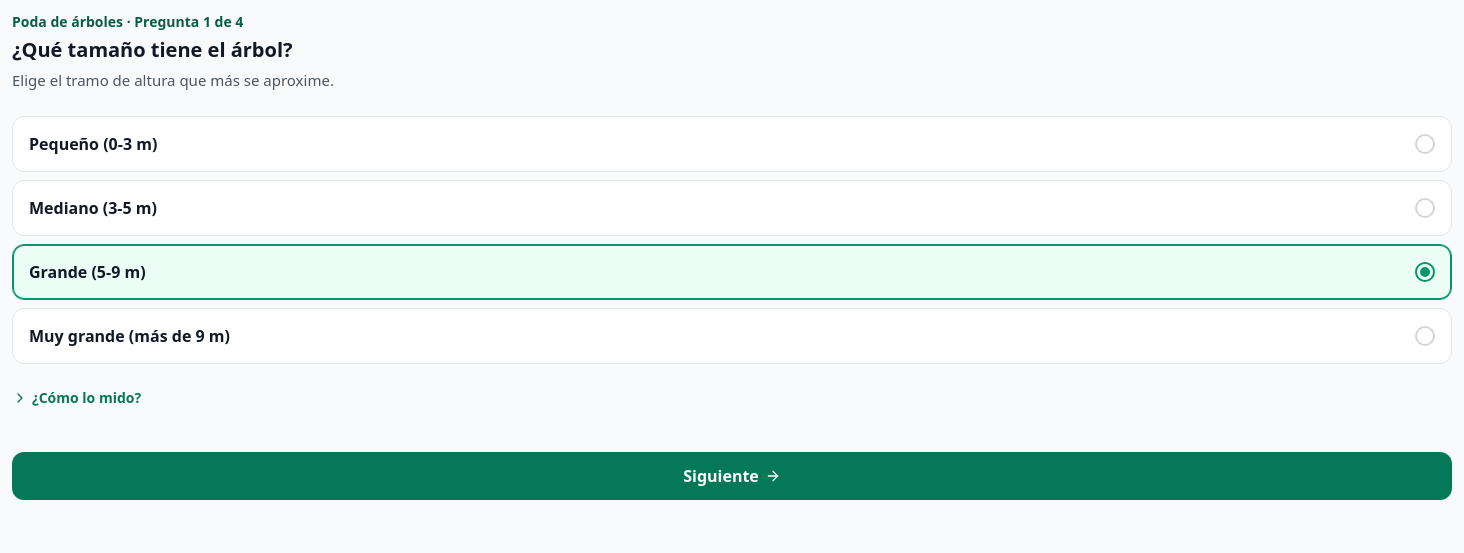
Scenario: árboles · «Duplicar» (D-04) › crea un árbol idéntico; cinco iguales = cinco elementos y cinco grupos
The image size is (1464, 553).
Later steps or results of the test are not shown.
Click the button "Siguiente" at point(732, 476), box [12,452,1452,500]
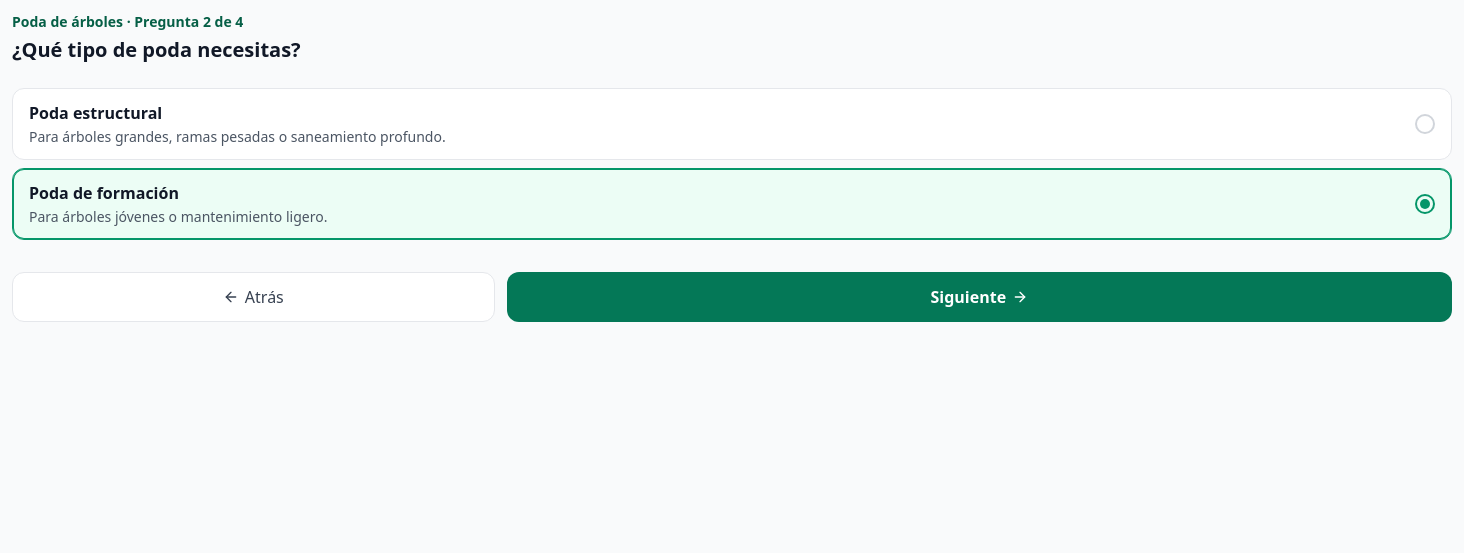
Click the button "Siguiente" at point(979, 297), box [507,272,1452,322]
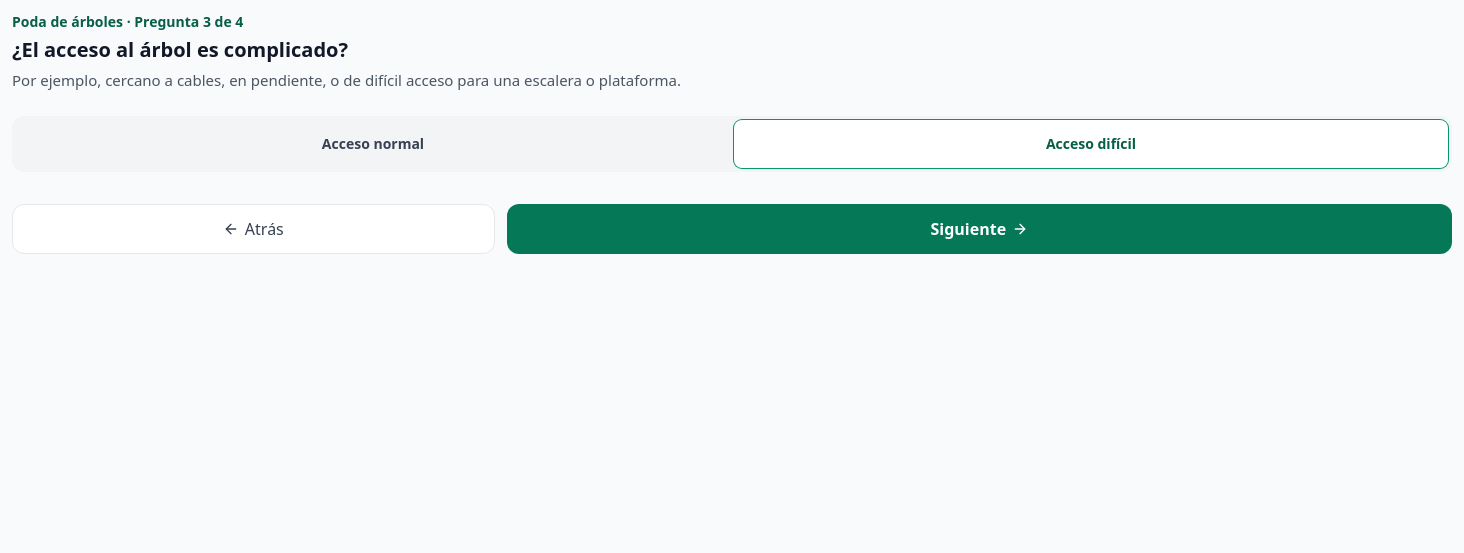
Click the button "Siguiente" at point(979, 229), box [507,204,1452,254]
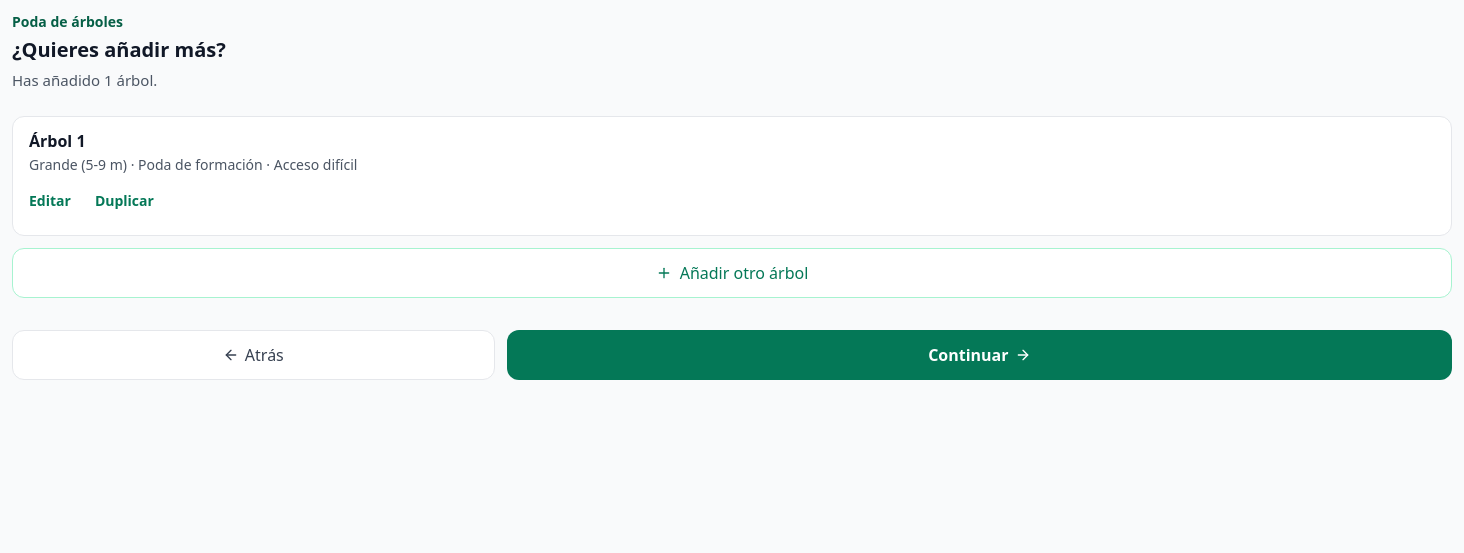
Expected: the heading reads "¿Quieres añadir más?", [12,36,226,63]
Click the button with aria-label "Duplicar árbol 1" at point(124, 201), box [83,179,166,223]
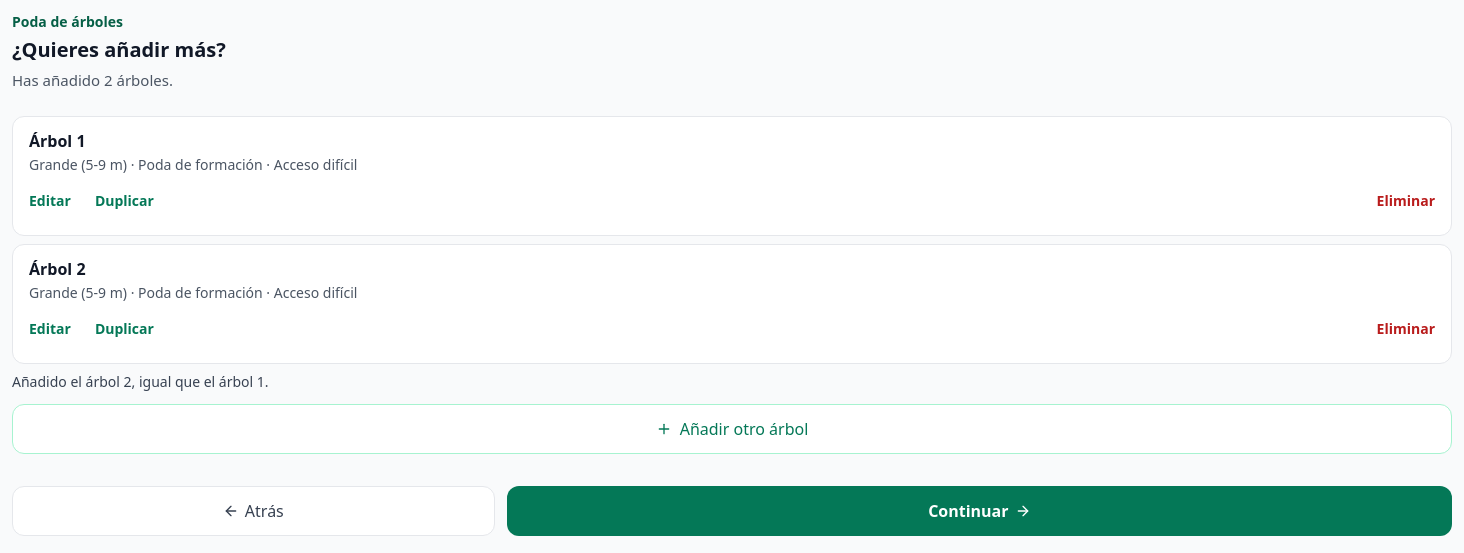
Expected: the text "Añadido el árbol 2, igual que el árbol 1." is shown, [12,372,269,391]
Expected: the text "Has añadido 2 árboles." is shown, [12,70,173,90]
